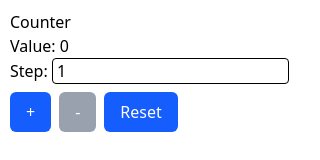
it: CounterView › decrement button decreases value when value > 0
Click the button "+".
click(31, 112)  # box [10,92,51,132]
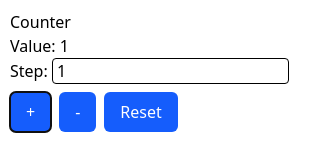
Click the button "-".
click(78, 112)  # box [59,92,96,132]
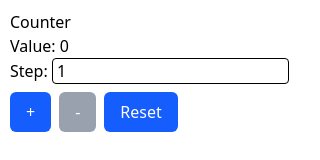
Check: the text "Value: 0" is shown, box [10,35,69,57]
